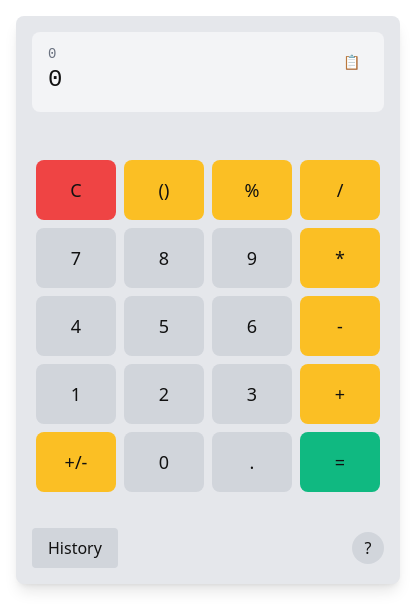
Calculator integration with testIds › auto-closes parentheses (3+2)=5
Click the button with test id "key-()" at (164, 190), box [124,160,204,220]
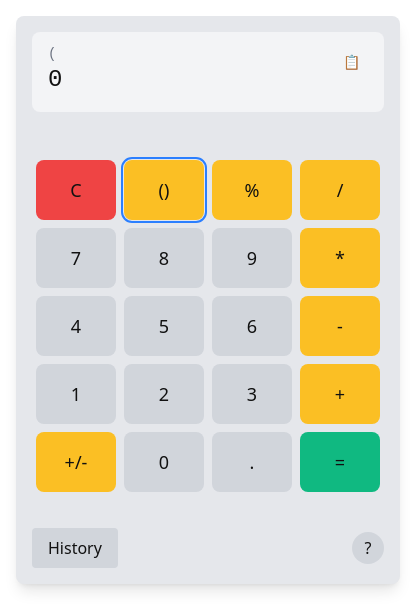
Click the button with test id "key-3" at (252, 394), box [212,364,292,424]
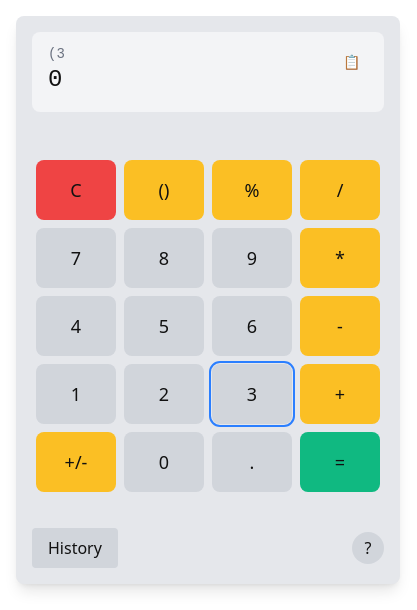
Click the button with test id "key-+" at (340, 394), box [300,364,380,424]
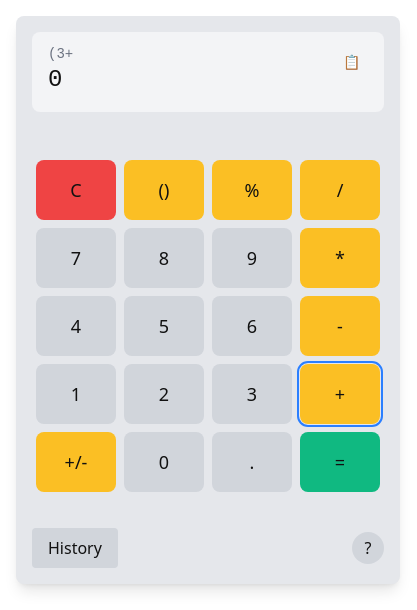
Click the button with test id "key-2" at (164, 394), box [124,364,204,424]
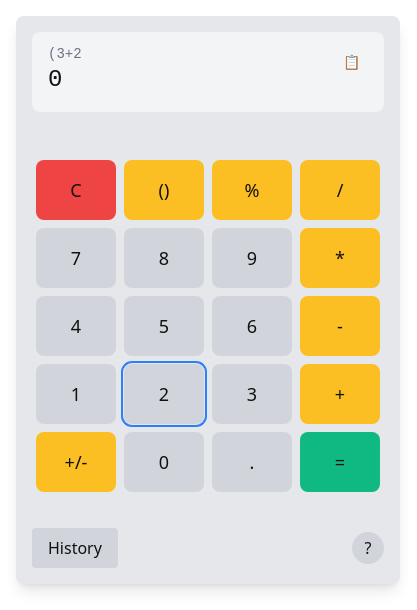
Click the button with test id "key-=" at (340, 462), box [300,432,380,492]
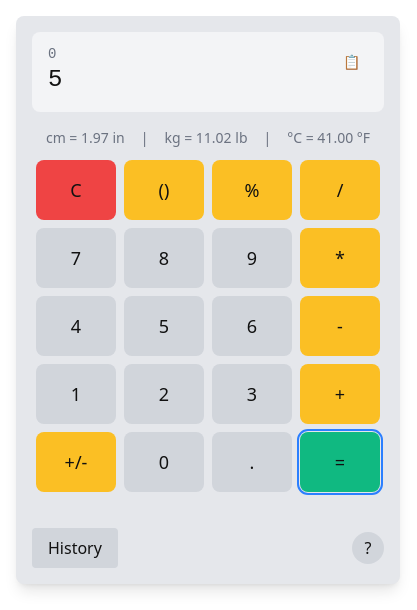
Now the text with test id "result" reads "5", box [48,66,62,93]
